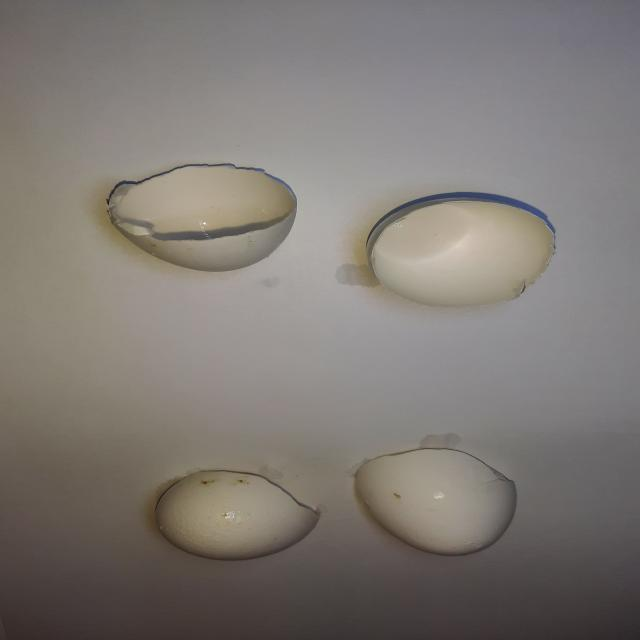egg shell: (362, 195, 560, 310), (106, 162, 300, 275), (356, 447, 520, 558), (151, 468, 323, 563)
